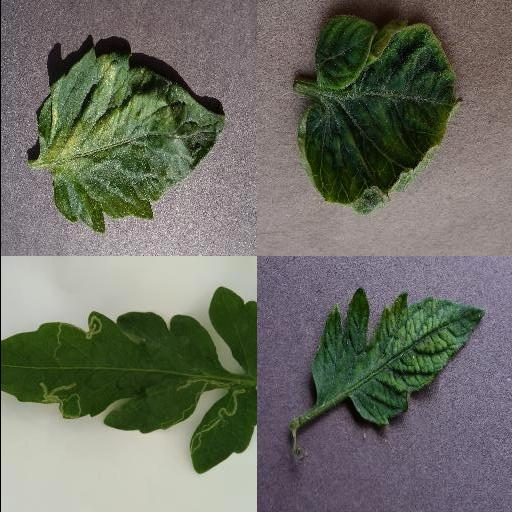Leaf Miner: (0, 309, 219, 435), (188, 389, 256, 477)
Mosaic Virus: (309, 286, 485, 426)
Spider Mites: (36, 49, 226, 233)
Yellow Leaf Curl Virus: (295, 22, 465, 216), (312, 12, 380, 90)
